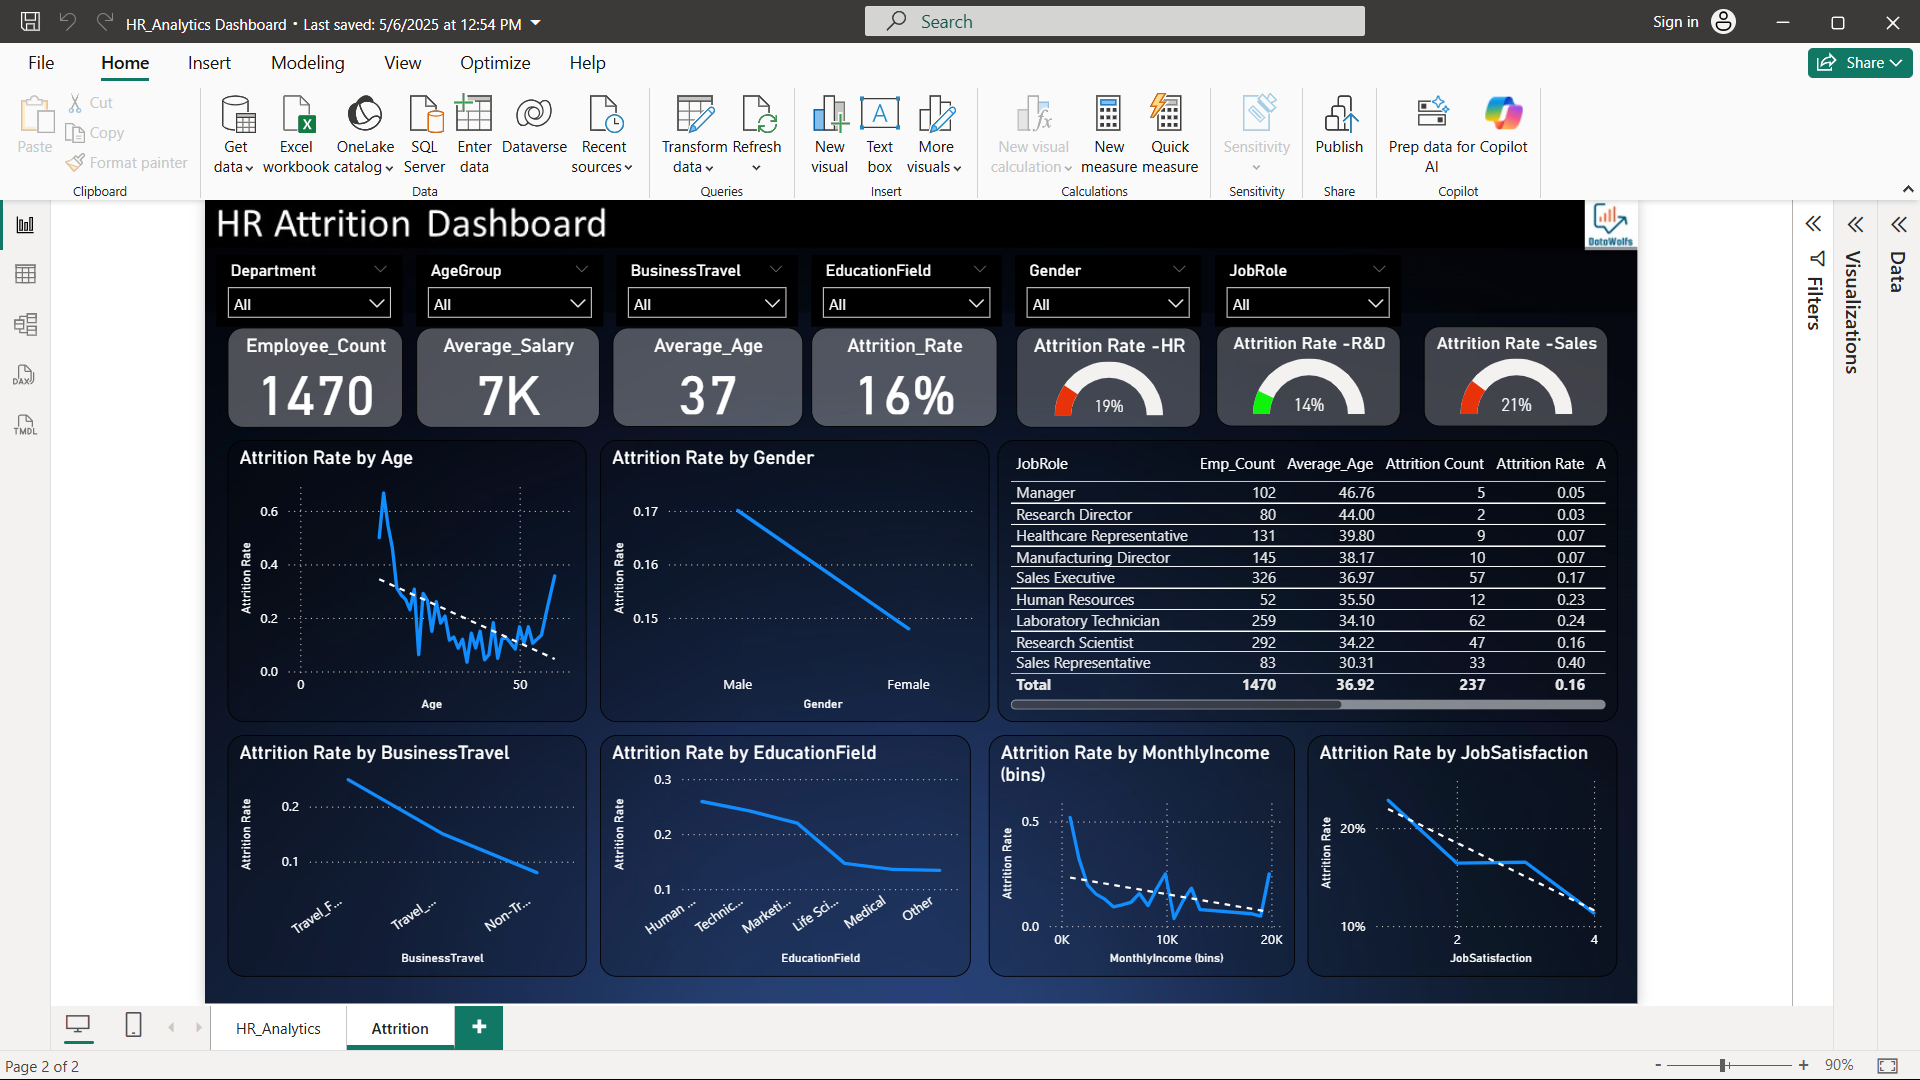

This screenshot's page, from the dashboard's own definition file:
{"tool":"powerbi","page":{"name":"Attrition","canvas":[1280,720],"ordinal":1},"visuals":[{"type":"slicer","fields":{"Values":["HR_Analytics.Department"]},"box":[10,49,166,64],"z":0},{"type":"card","title":"Employee_Count","fields":{"Values":["HR_Analytics.Employee_Count"]},"box":[19.8,113.9,157,89.5],"z":1000},{"type":"slicer","fields":{"Values":["HR_Analytics.AgeGroup"]},"box":[188.2,49,167,64],"z":3000},{"type":"slicer","fields":{"Values":["HR_Analytics.JobRole"]},"box":[902,49,166,64],"z":4000},{"type":"slicer","fields":{"Values":["HR_Analytics.EducationField"]},"box":[541.6,49,170,64],"z":5000},{"type":"slicer","fields":{"Values":["HR_Analytics.BusinessTravel"]},"box":[367.4,49,162,64],"z":6000},{"type":"slicer","fields":{"Values":["HR_Analytics.Gender"]},"box":[723.8,49,166,64],"z":7000},{"type":"card","title":"Average_Salary","fields":{"Values":["HR_Analytics.Average_Salary"]},"box":[188.4,113.9,164,89.5],"z":8000},{"type":"card","title":"Average_Age","fields":{"Values":["HR_Analytics.Average_Age"]},"box":[363.6,113.9,170.2,89.2],"z":9000},{"type":"card","title":"Attrition_Rate","fields":{"Values":["HR_Analytics.Attrition Rate"]},"box":[542,113.9,166,89.2],"z":10000},{"type":"tableEx","fields":{"Values":["HR_Analytics.JobRole","HR_Analytics.Employee_Count","HR_Analytics.Average_Age","HR_Analytics.Attrition Count","HR_Analytics.Attrition Rate","HR_Analytics.Average Job Satisfaction","HR_Analytics.Average_Salary","HR_Analytics.Average_Salary_Hike","HR_Analytics.Gender_Ratio","HR_Analytics.OverTime%","HR_Analytics.Average_Years"]},"box":[708.1,214,554.7,252.3],"z":11000},{"type":"gauge","title":"Attrition Rate -HR","fields":{"Y":["HR_Analytics.Attrition Rate"]},"box":[724.4,114,165.1,89.5],"z":12000},{"type":"gauge","title":"Attrition Rate -R&D","fields":{"Y":["HR_Analytics.Attrition Rate"]},"box":[903.5,112.8,165.1,89.5],"z":13000},{"type":"gauge","title":"Attrition Rate -Sales","fields":{"Y":["HR_Analytics.Attrition Rate"]},"box":[1088.4,112.8,165.1,89.5],"z":14000},{"type":"lineChart","fields":{"Y":["HR_Analytics.Attrition Rate"],"Category":["HR_Analytics.Age"]},"box":[19.8,214,320.9,252.3],"z":15000},{"type":"lineChart","fields":{"Y":["HR_Analytics.Attrition Rate"],"Category":["HR_Analytics.BusinessTravel"]},"box":[19.8,477.9,320.9,216.3],"z":16000},{"type":"lineChart","fields":{"Y":["HR_Analytics.Attrition Rate"],"Category":["HR_Analytics.EducationField"]},"box":[352.3,477.9,331.4,216.3],"z":17000},{"type":"lineChart","fields":{"Y":["HR_Analytics.Attrition Rate"],"Category":["HR_Analytics.Gender"]},"box":[352.3,214,347.7,252.3],"z":18000},{"type":"lineChart","fields":{"Y":["HR_Analytics.Attrition Rate"],"Category":["HR_Analytics.JobSatisfaction"]},"box":[984.9,477.9,276.7,216.3],"z":20000},{"type":"lineChart","fields":{"Y":["HR_Analytics.Attrition Rate"],"Category":["HR_Analytics.MonthlyIncome (bins)"]},"box":[700,477.9,273.3,216.3],"z":21000}]}

Visuals, with their boxes on the page's 1280x720 design canvas (x1, y1, x2, y2). These are canvas units, not pixel positions in the 1920x1080 screenshot, which may show the page scaled, cropped or inside an application window:
slicer - HR_Analytics.Department: crop(10, 49, 176, 113)
"Employee_Count" card: crop(20, 114, 177, 203)
slicer - HR_Analytics.AgeGroup: crop(188, 49, 355, 113)
slicer - HR_Analytics.JobRole: crop(902, 49, 1068, 113)
slicer - HR_Analytics.EducationField: crop(542, 49, 712, 113)
slicer - HR_Analytics.BusinessTravel: crop(367, 49, 529, 113)
slicer - HR_Analytics.Gender: crop(724, 49, 890, 113)
"Average_Salary" card: crop(188, 114, 352, 203)
"Average_Age" card: crop(364, 114, 534, 203)
"Attrition_Rate" card: crop(542, 114, 708, 203)
tableEx - HR_Analytics.JobRole x HR_Analytics.Employee_Count: crop(708, 214, 1263, 466)
"Attrition Rate -HR" gauge: crop(724, 114, 890, 204)
"Attrition Rate -R&D" gauge: crop(904, 113, 1069, 202)
"Attrition Rate -Sales" gauge: crop(1088, 113, 1254, 202)
lineChart - HR_Analytics.Attrition Rate x HR_Analytics.Age: crop(20, 214, 341, 466)
lineChart - HR_Analytics.Attrition Rate x HR_Analytics.BusinessTravel: crop(20, 478, 341, 694)
lineChart - HR_Analytics.Attrition Rate x HR_Analytics.EducationField: crop(352, 478, 684, 694)
lineChart - HR_Analytics.Attrition Rate x HR_Analytics.Gender: crop(352, 214, 700, 466)
lineChart - HR_Analytics.Attrition Rate x HR_Analytics.JobSatisfaction: crop(985, 478, 1262, 694)
lineChart - HR_Analytics.Attrition Rate x HR_Analytics.MonthlyIncome (bins): crop(700, 478, 973, 694)
